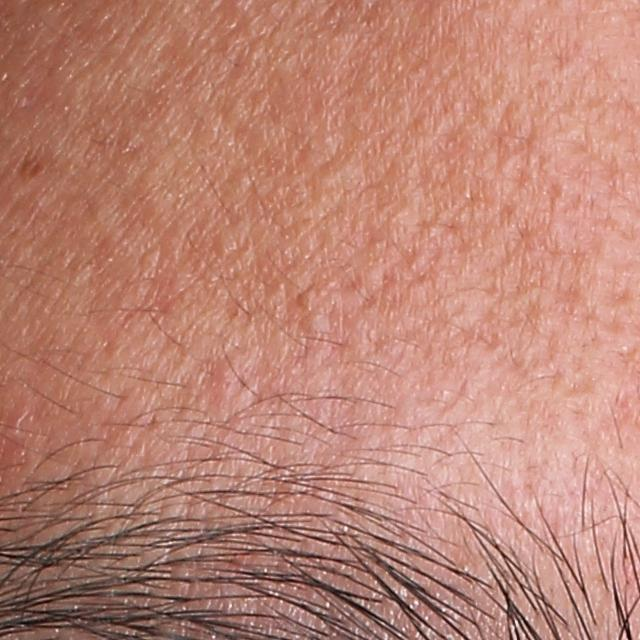comedo: (298, 310, 329, 334)
